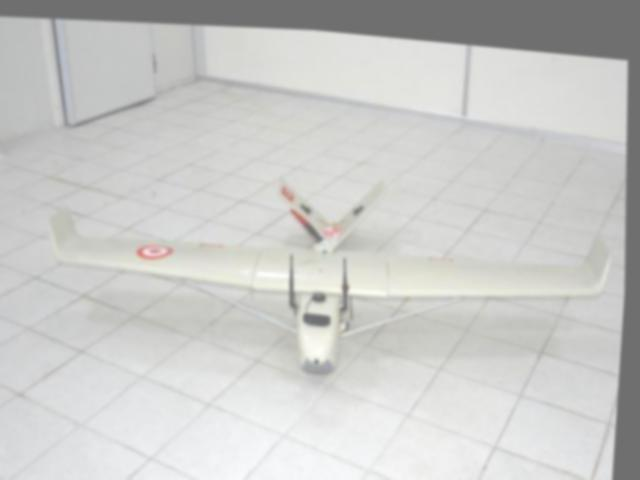iha: (36, 146, 629, 385)
